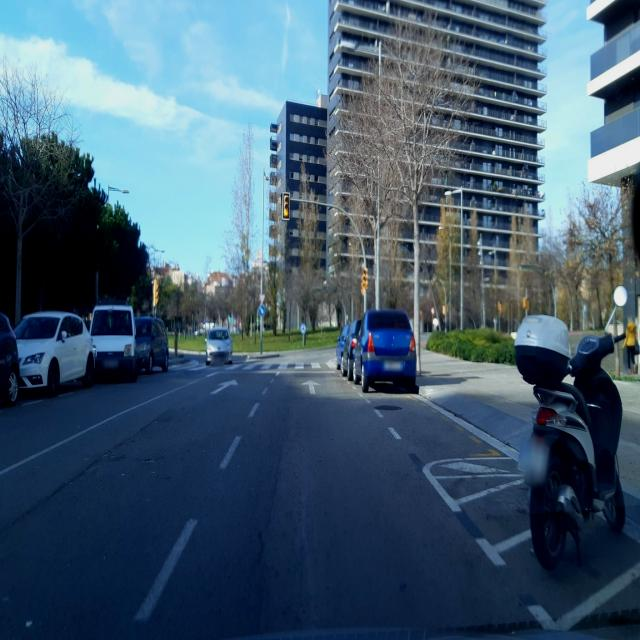bike: (508, 311, 628, 574)
car: (13, 310, 95, 398), (352, 308, 417, 393), (90, 300, 137, 381), (0, 308, 21, 414), (135, 315, 169, 374), (341, 318, 362, 379), (205, 326, 233, 366), (335, 324, 349, 371)
